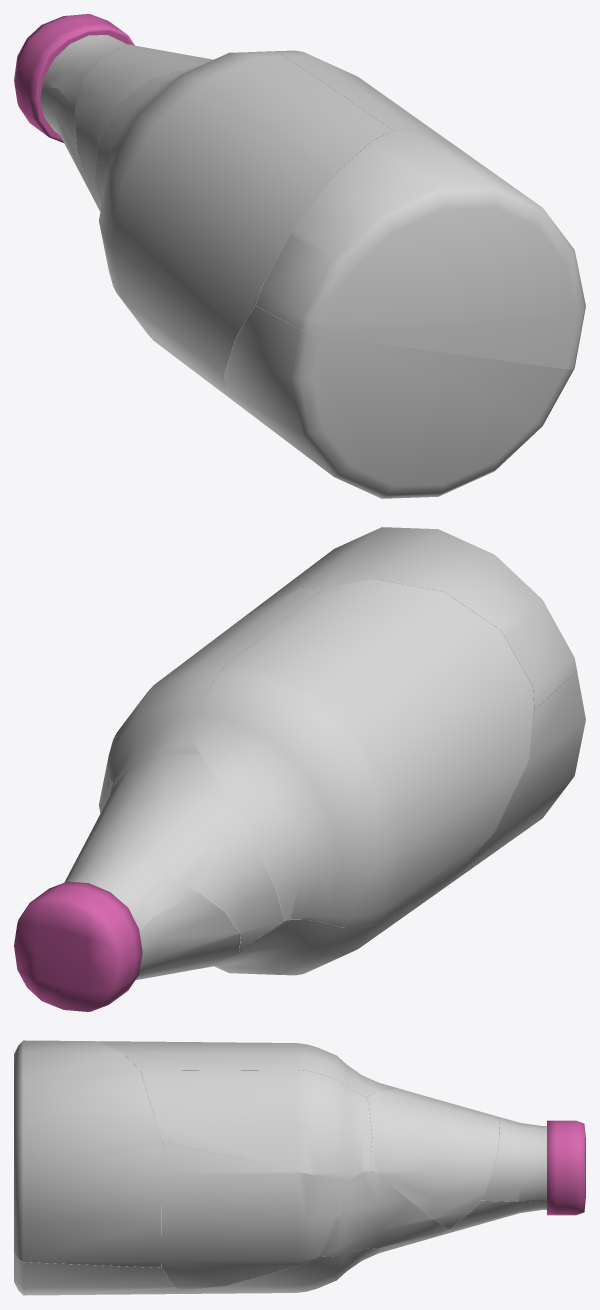
The model's file is Flasche whole.fbx.
3 views of the same model, one above another, from view 1: azimuth 30°, elevation 25°; view 2: azimuth 150°, elevation 25°; view 3: azimuth 270°, elevation 25° (orthographic). The views are drawn at different scales.
Parts seen in each view (by area): view 1: flasche whole; view 2: flasche whole; view 3: flasche whole.
Boxes of the visible parts, x1,y1,x2,y2 form: flasche whole: (14, 14, 585, 498); flasche whole: (14, 527, 585, 1011); flasche whole: (14, 1040, 585, 1295).
Size of the model in its own units: 3.35 by 3.35 by 7.51.
